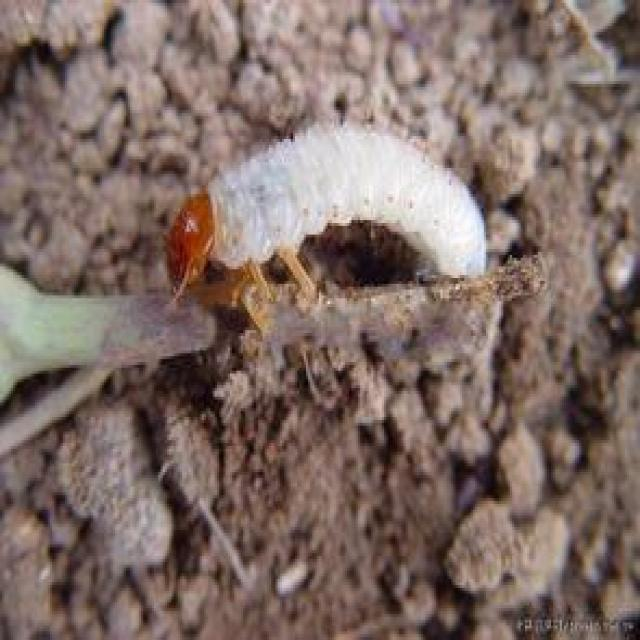Grub-Adult-: (146, 121, 504, 316)
